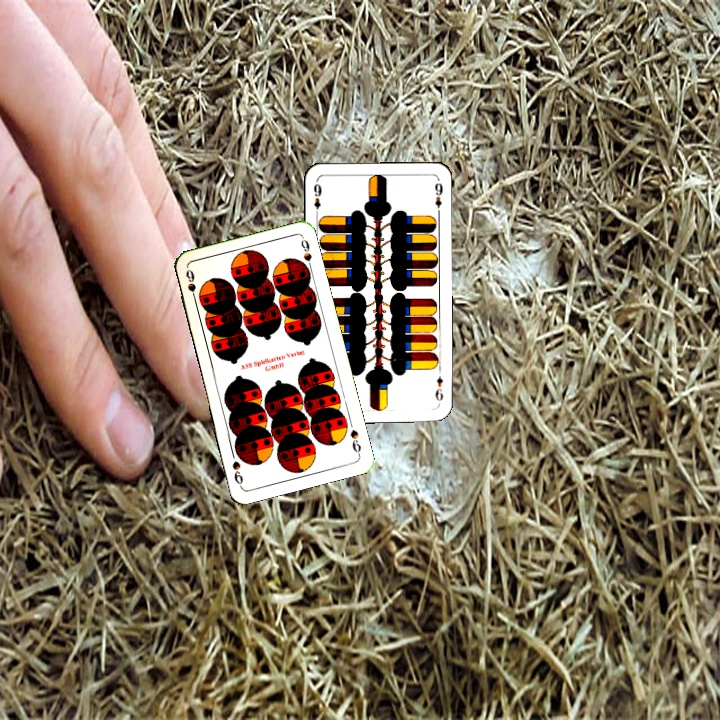E9: (309, 178, 324, 218), (431, 366, 445, 406)
S9: (182, 265, 199, 306), (346, 426, 363, 458)
